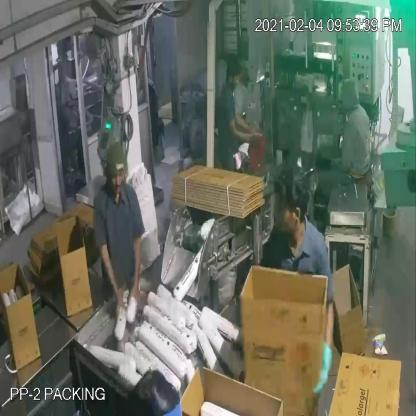no_glove: (94, 229, 127, 315), (119, 223, 148, 316), (227, 110, 271, 147)
